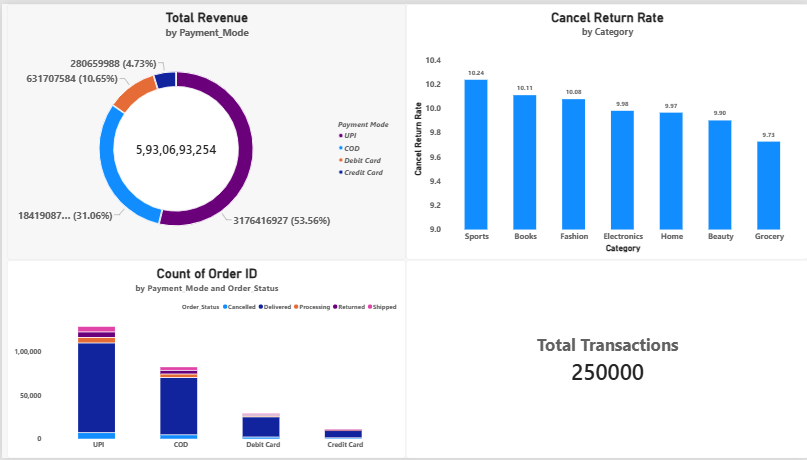

This screenshot's page, from the dashboard's own definition file:
{"tool":"powerbi","page":{"name":"Payments","canvas":[1920,1080],"ordinal":4},"visuals":[{"type":"donutChart","title":"Total Revenue ","fields":{"Category":["sales.Payment_Mode"],"Y":["Sum(sales.Total_Amount)"]},"box":[11.1,0,950,608.3],"z":0},{"type":"columnChart","title":"Count of Order ID","fields":{"Category":["sales.Payment_Mode"],"Series":["sales.Order_Status"],"Y":["CountNonNull(sales.Order_ID)"]},"box":[11.1,608.3,950,472.2],"z":2},{"type":"cardVisual","fields":{"Data":["CountNonNull(sales.Order_ID)"]},"box":[961.1,608.3,958.3,472.2],"z":3},{"type":"clusteredColumnChart","fields":{"Category":["products.Category"],"Y":["sales.Cancel Return Rate"]},"box":[961,0,958,608],"z":4}]}

Visuals, with their boxes in screenshot pixels (x1, y1, x2, y2), scaled from the page's 1920x1080 canvas onto the 807x460 screenshot:
"Total Revenue " donutChart: detection(5, 0, 404, 259)
"Count of Order ID" columnChart: detection(5, 259, 404, 459)
cardVisual - CountNonNull(sales.Order_ID): detection(404, 259, 806, 459)
clusteredColumnChart - products.Category x sales.Cancel Return Rate: detection(404, 0, 806, 259)
